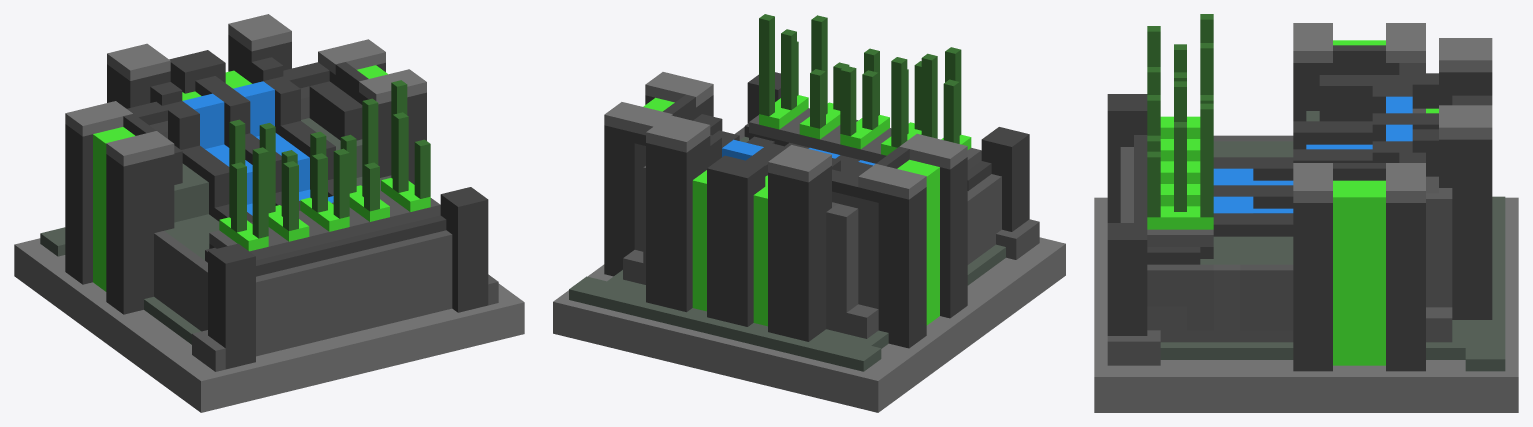
Rendered from _g_park.obj.
3 views of the same model, side by side, from view 1: azimuth 30°, elevation 25°; view 2: azimuth 150°, elevation 25°; view 3: azimuth 270°, elevation 25° (orthographic). The views are drawn at different scales.
Size of the model in its own units: 3.2 by 2.2 by 3.2.
